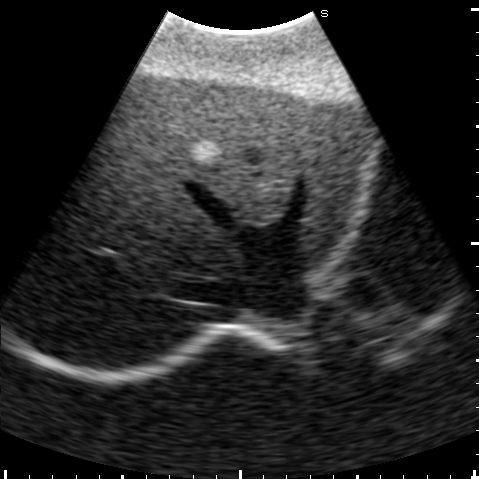S2: (303, 134, 367, 264)
S4: (124, 75, 311, 224)
S7: (18, 239, 205, 370)
S8: (74, 108, 236, 281)
Tumor: (193, 140, 218, 164)
